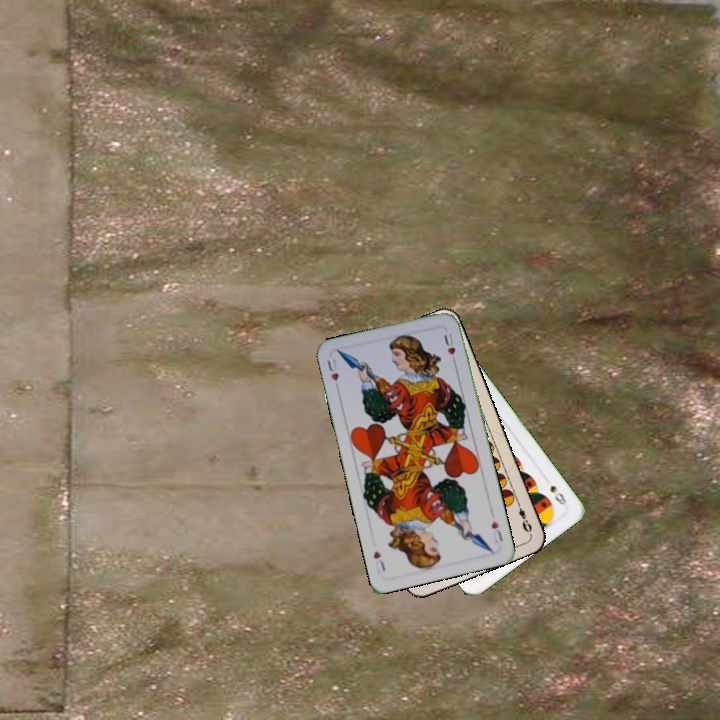E9: (513, 498, 534, 535)
HU: (323, 354, 342, 394), (487, 516, 505, 546)
S8: (546, 481, 571, 508)
